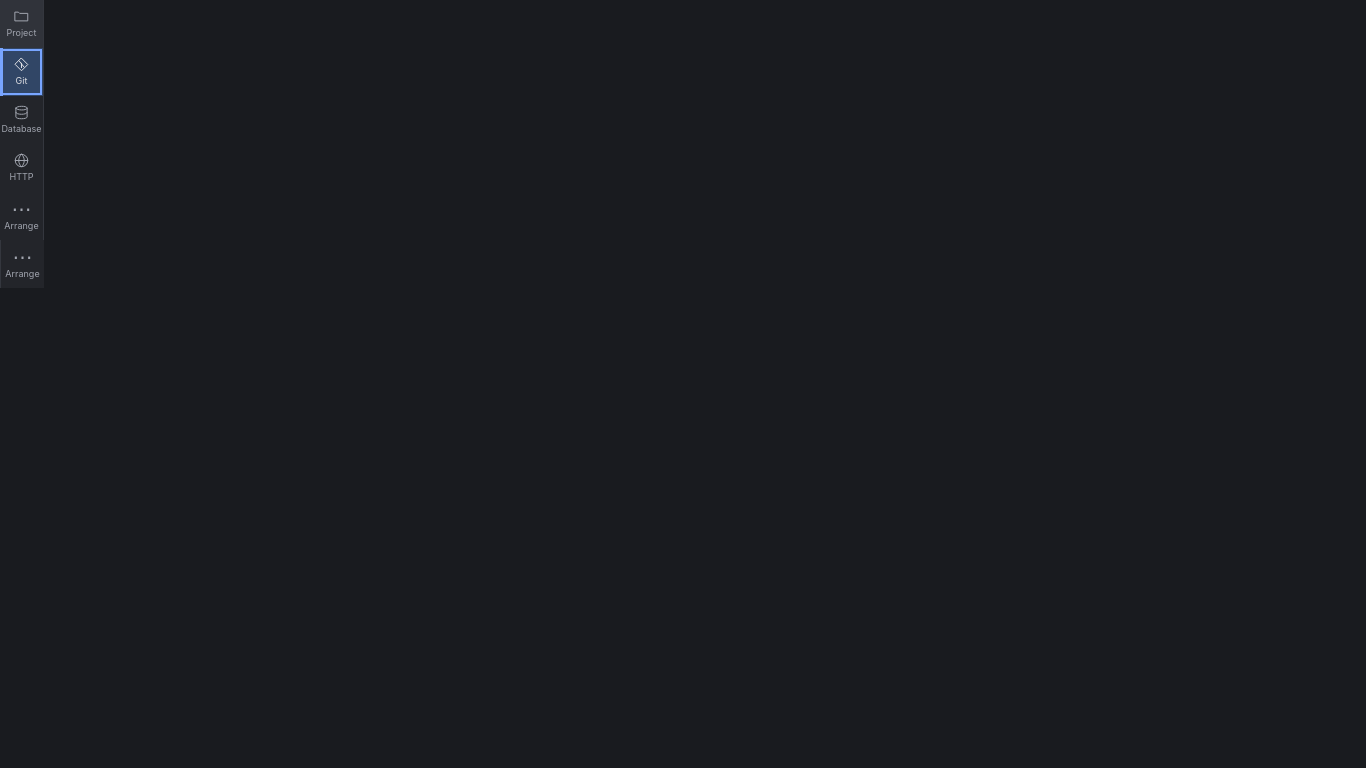
Test: sidebar rail › moves via Shift+F10 and focuses the relocated tab
The width and height of the screenshot is (1366, 768).
Press F10 in the button "Git", box top-left (0, 48), bottom-right (43, 96)
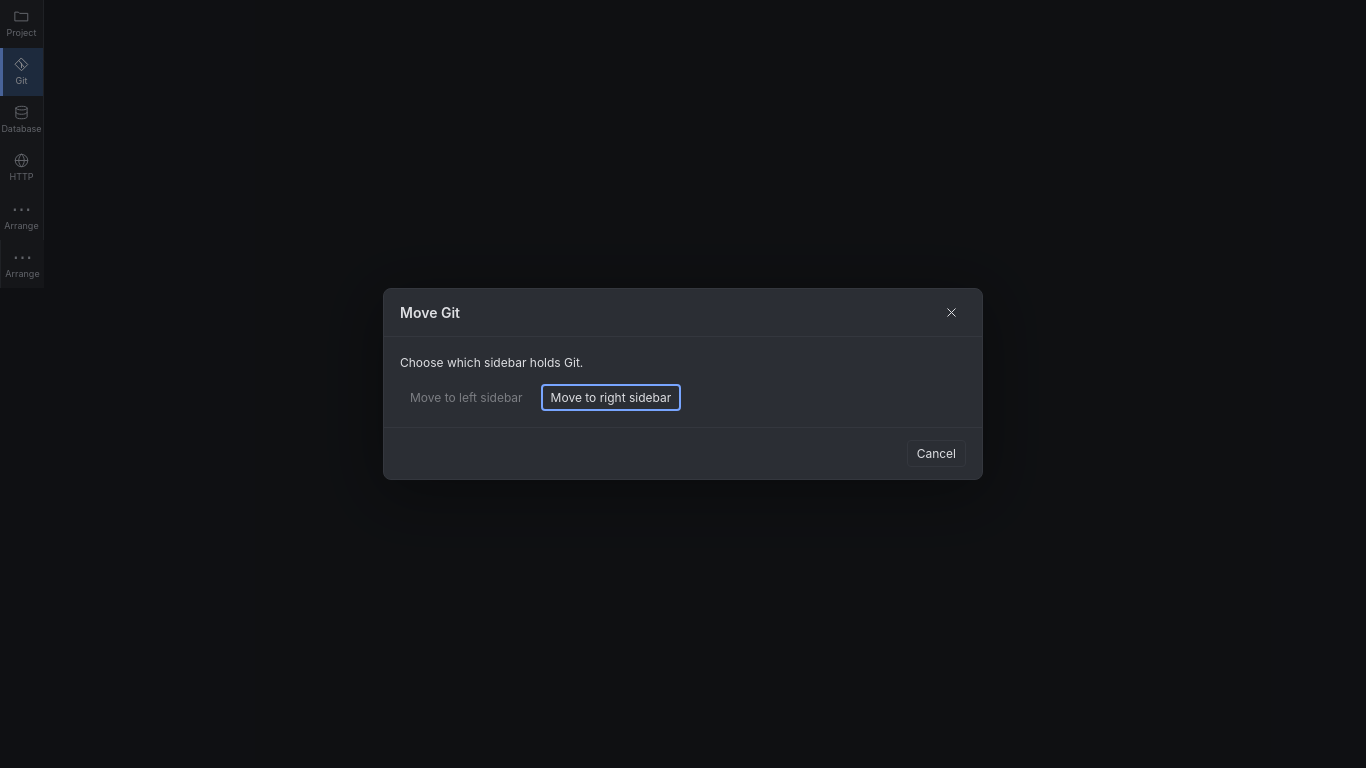
Now the button "Move to left sidebar" is disabled, box top-left (400, 384), bottom-right (533, 411)
Click the button "Move to right sidebar". click: (611, 398)
box: top-left (541, 384), bottom-right (681, 411)
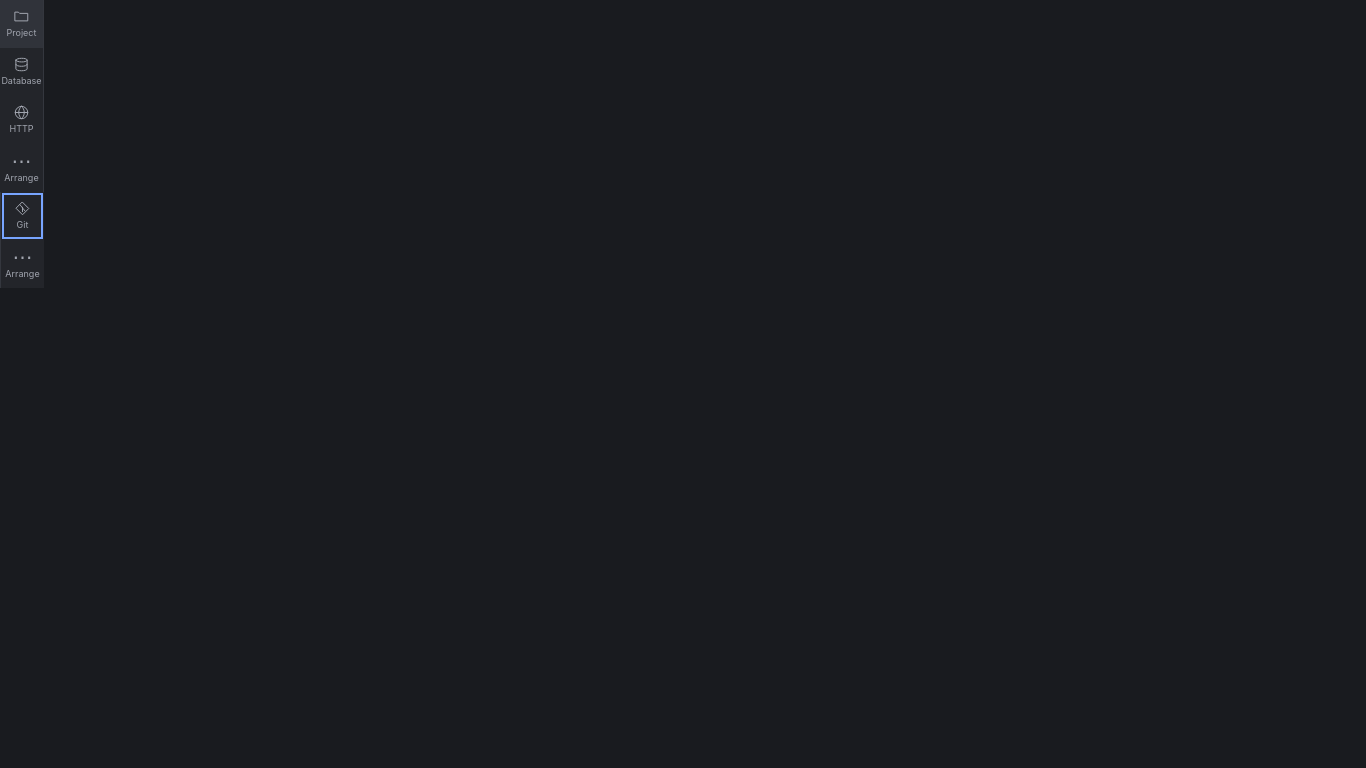
Now the dialog is gone
